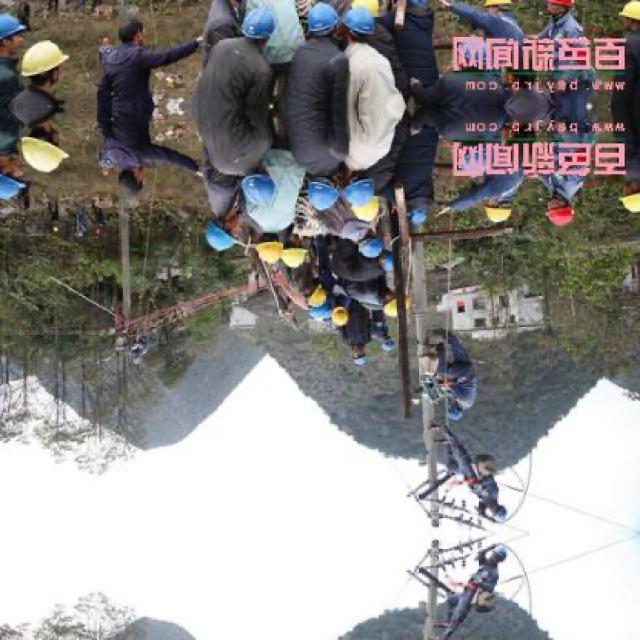con casco: (212, 148, 288, 213), (11, 112, 72, 174), (477, 180, 549, 228), (178, 213, 268, 250), (202, 195, 245, 256), (274, 172, 344, 206), (342, 162, 388, 208), (552, 202, 587, 228)
